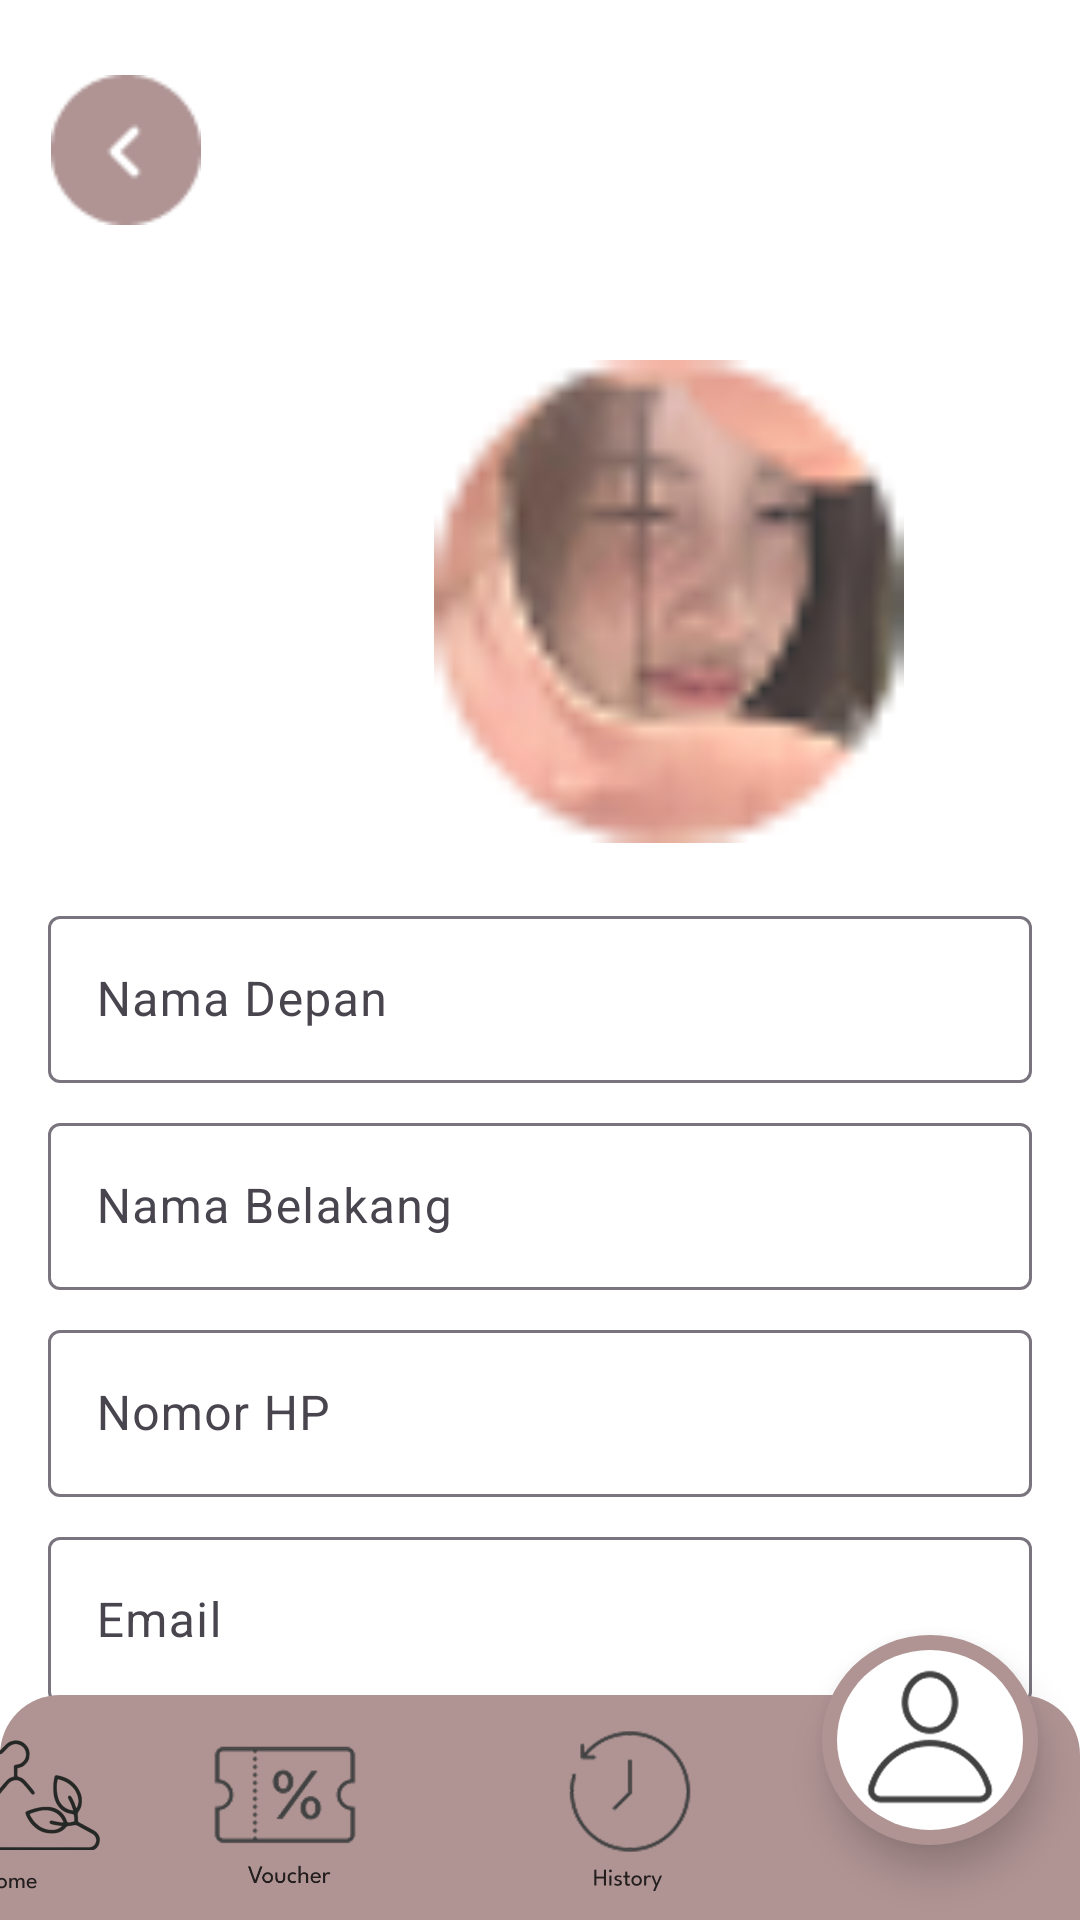

Screen size 1080×1920. Icon name, then its center in pixels as [x,y]:
back home: [126,150]
profilnew: [930,1740]
